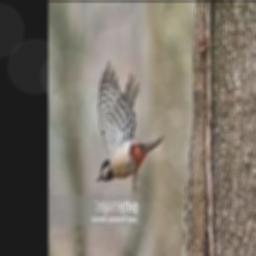Woodpecker: (97, 60, 165, 192)
